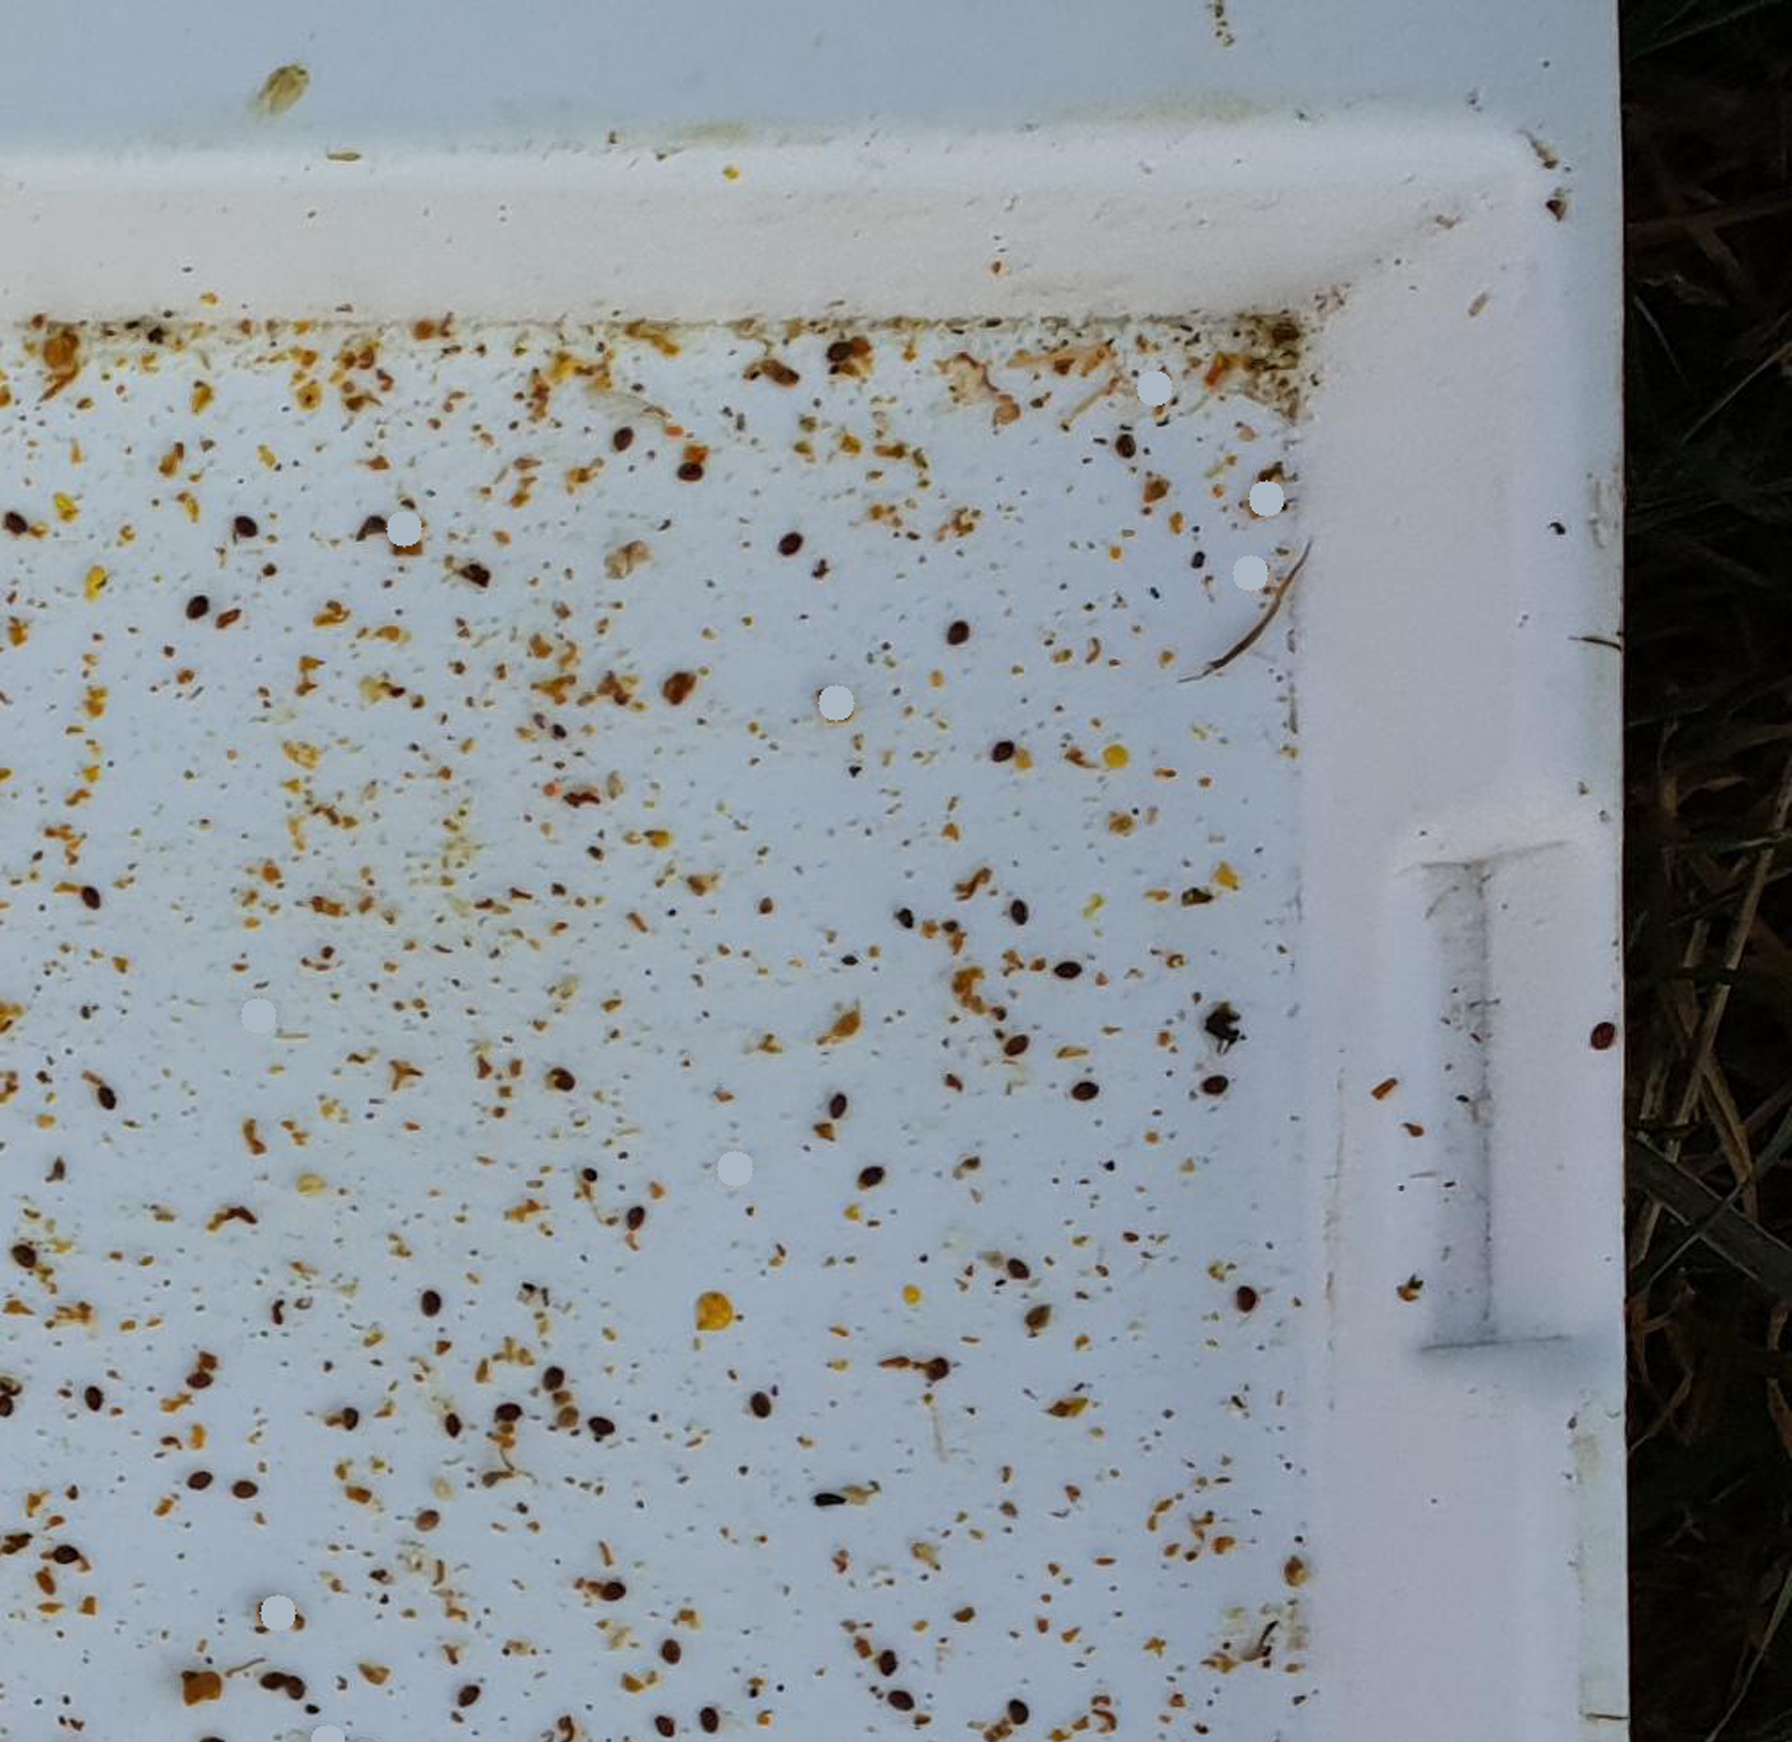Varroa: (429, 1400, 474, 1448), (866, 1640, 910, 1684), (266, 1665, 296, 1694), (918, 1350, 949, 1379), (550, 1062, 581, 1089), (990, 737, 1019, 765), (747, 1392, 774, 1419), (416, 1504, 443, 1531), (2, 510, 29, 537), (493, 1401, 520, 1428), (1008, 901, 1037, 926), (1008, 1697, 1035, 1723), (1002, 1032, 1029, 1057), (186, 1361, 211, 1387), (589, 1412, 611, 1441), (82, 1382, 106, 1408), (778, 528, 802, 553), (826, 341, 851, 365), (94, 1085, 120, 1109), (235, 1475, 259, 1500), (1075, 1077, 1098, 1104), (56, 1537, 78, 1564), (1115, 434, 1138, 461), (651, 1708, 674, 1736), (186, 597, 206, 625), (338, 1404, 362, 1428), (947, 621, 970, 646), (659, 1638, 683, 1660), (235, 513, 258, 537), (861, 1165, 882, 1190), (613, 424, 634, 449), (189, 1467, 210, 1492), (458, 1683, 480, 1705), (1005, 1254, 1026, 1278), (682, 456, 701, 481), (1205, 1070, 1226, 1093), (1237, 1285, 1258, 1307), (622, 1205, 643, 1227), (422, 1288, 443, 1308), (14, 1240, 35, 1261), (602, 1574, 622, 1595), (542, 1364, 562, 1387), (827, 1096, 846, 1117), (1056, 961, 1074, 976), (894, 1689, 907, 1704), (1598, 1025, 1610, 1040), (704, 1713, 714, 1724), (86, 893, 96, 902)
